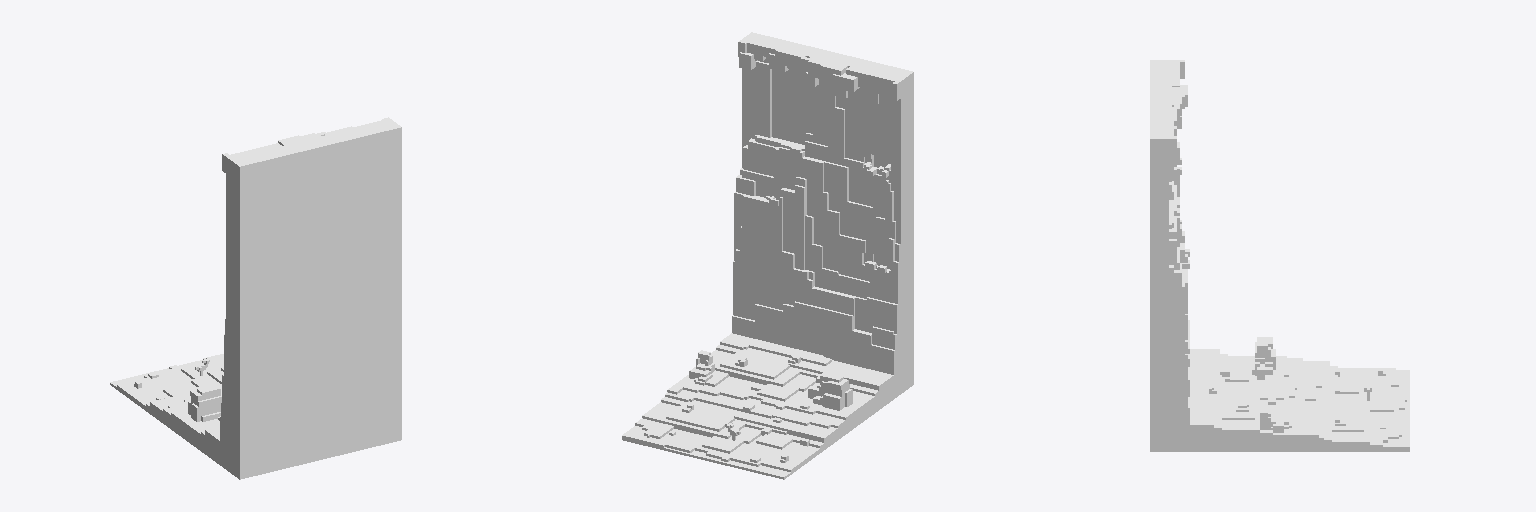
Rendered from meadow_with_rocks.obj.
The picture shows the model from 3 angles: view 1: azimuth 30°, elevation 25°; view 2: azimuth 150°, elevation 25°; view 3: azimuth 270°, elevation 25°; orthographic projection.
Visible parts, largest first — view 1: object 1; view 2: object 1; view 3: object 1.
Boxes of the visible parts, <box> form: object 1: <box>110,117,401,479</box>; object 1: <box>622,32,913,479</box>; object 1: <box>1150,60,1409,451</box>.
Size of the model in its own units: 7 by 12.9 by 9.7.